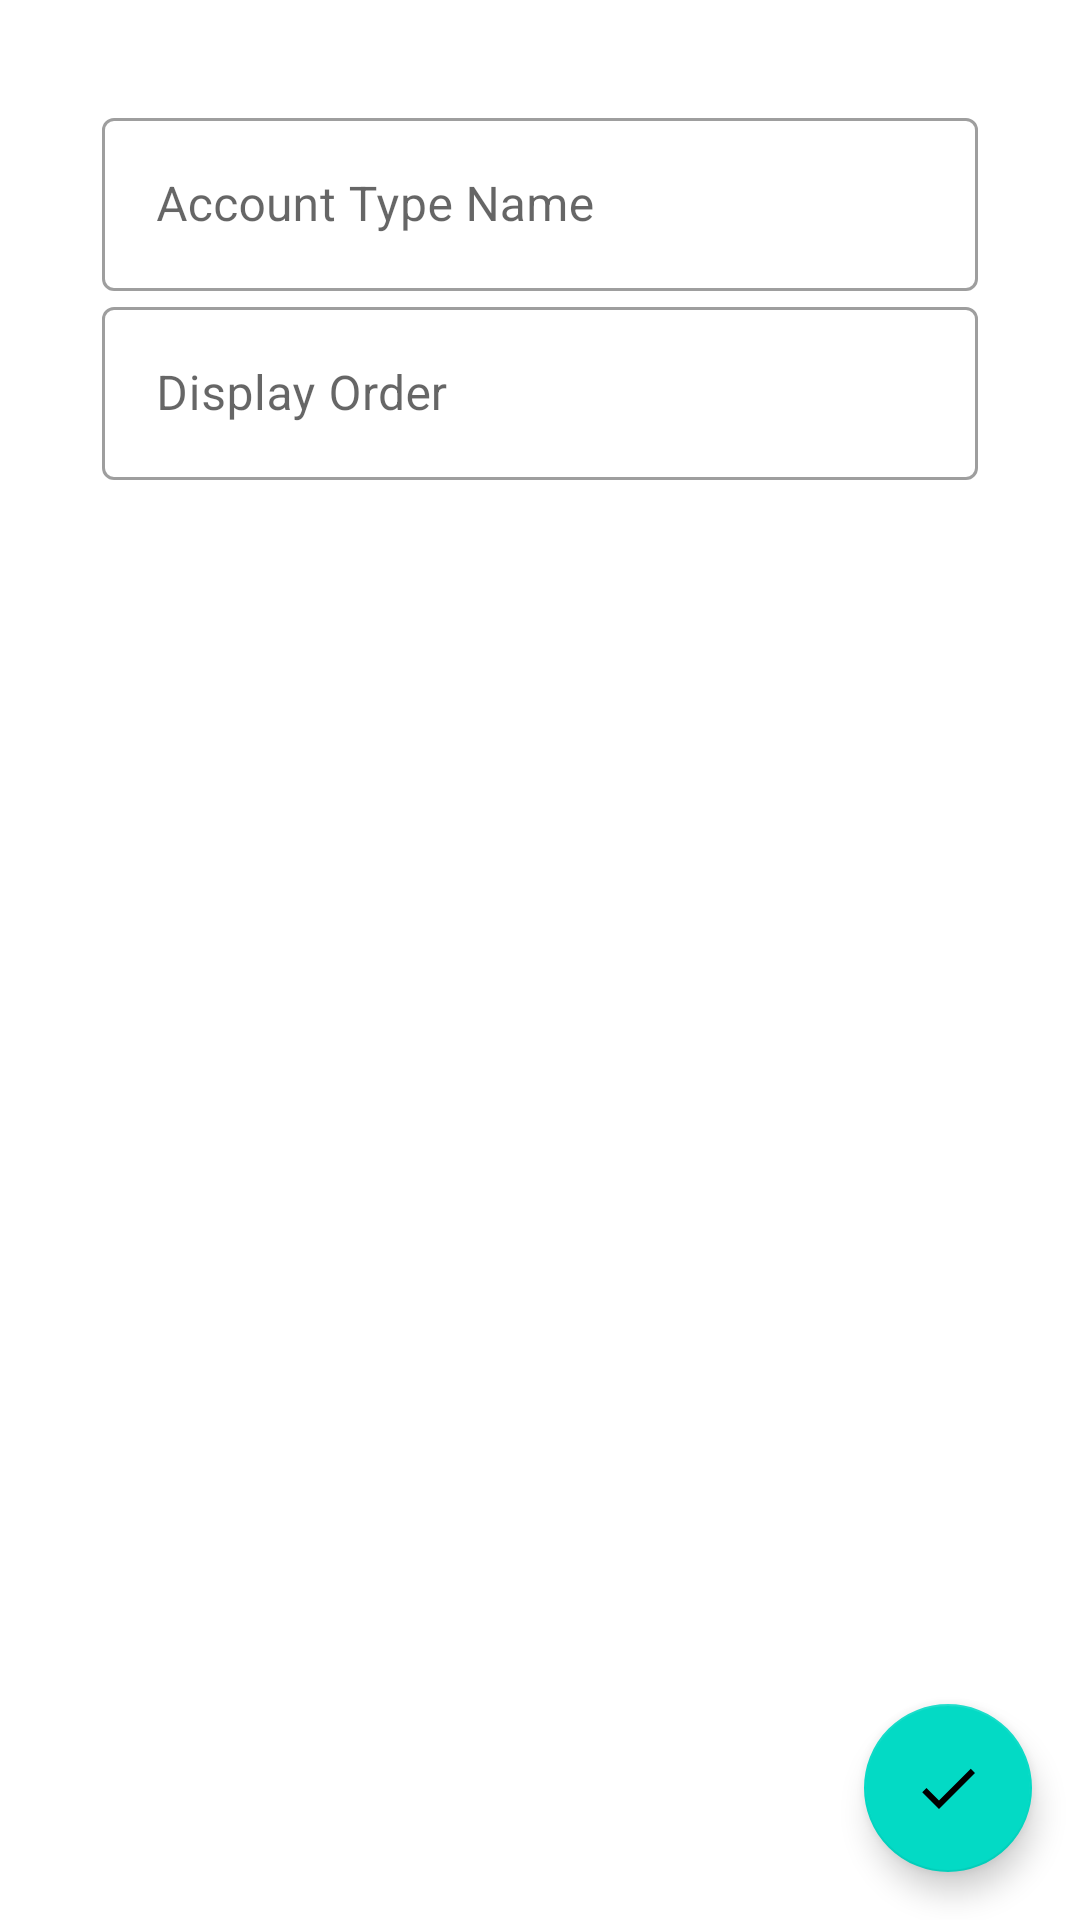

Where to tap for icons on this 1080w x 1920h app screen, as point (x, y):
check: point (948, 1788)
